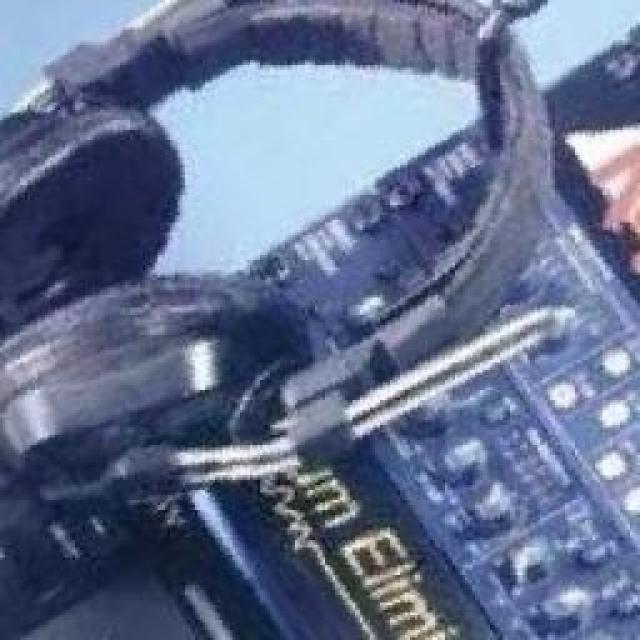kulaklik: (2, 0, 582, 640)
